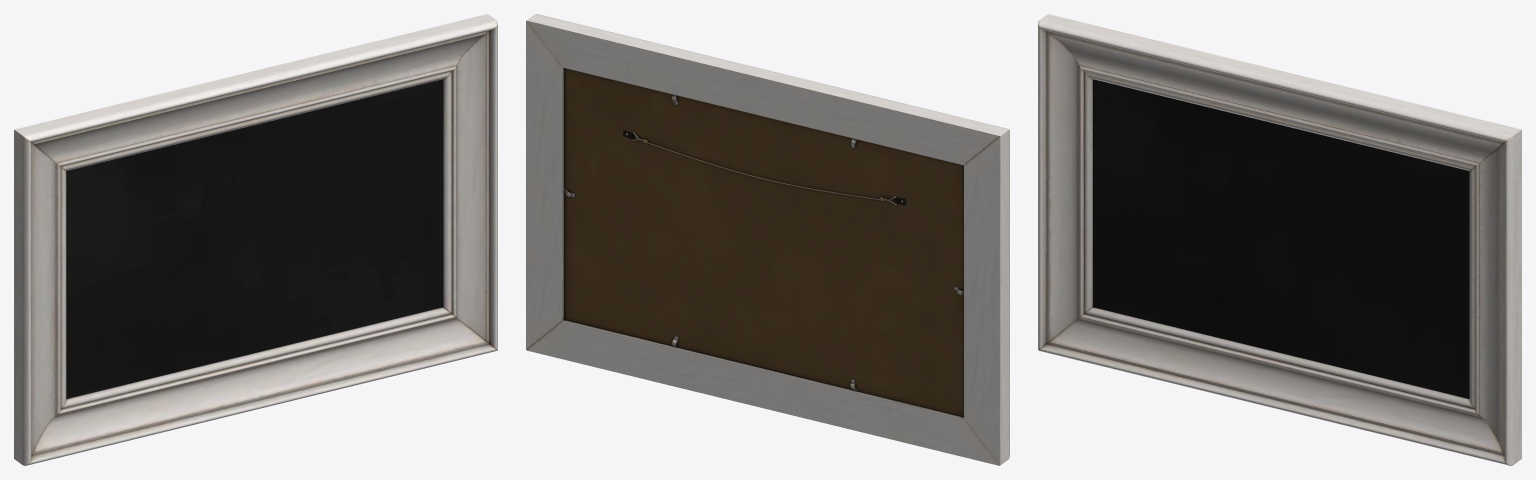
File: hanging_picture_frame_02.glb
The picture shows the model from 3 angles, left to right: view 1: azimuth 30°, elevation 25°; view 2: azimuth 150°, elevation 25°; view 3: azimuth 330°, elevation 25°; orthographic projection.
Visible parts, largest first — view 1: hanging_picture_frame_02; view 2: hanging_picture_frame_02; view 3: hanging_picture_frame_02.
Boxes of the visible parts, box(x1,y1,x2,y2) form: hanging_picture_frame_02: box(14, 14, 497, 465); hanging_picture_frame_02: box(526, 14, 1009, 465); hanging_picture_frame_02: box(1038, 14, 1521, 465).
Size of the model in its own units: 0.7518 by 0.5 by 0.033.
3 materials, 3 textured.
